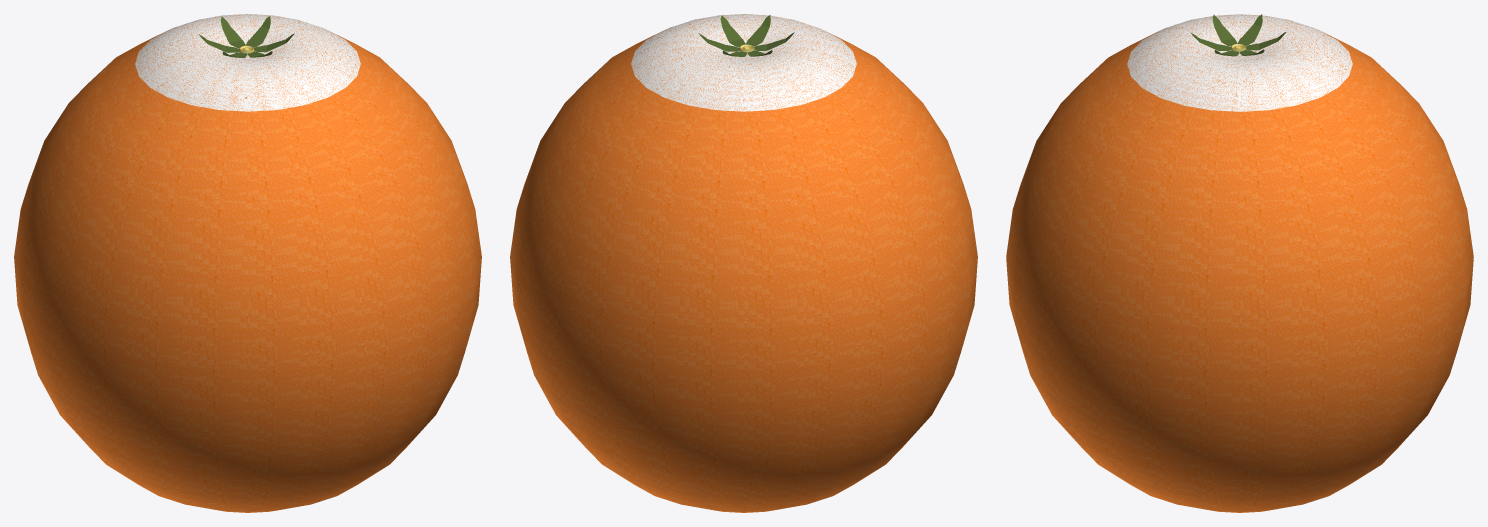
The model's file is Orange.dae.
3 renders of one model, left to right at view 1: azimuth 30°, elevation 25°; view 2: azimuth 150°, elevation 25°; view 3: azimuth 270°, elevation 25°, orthographic.
Visible parts, largest first — view 1: Appelsiini-all (×2); view 2: Appelsiini-all (×2); view 3: Appelsiini-all (×2).
Boxes of the visible parts, x1,y1,x2,y2 form: Appelsiini-all (×2): (14,14,481,512); Appelsiini-all (×2): (510,14,977,512); Appelsiini-all (×2): (1006,14,1473,512).
Size of the model in its own units: 3.76 by 3.76 by 4.03.
9 materials, 1 textured.
